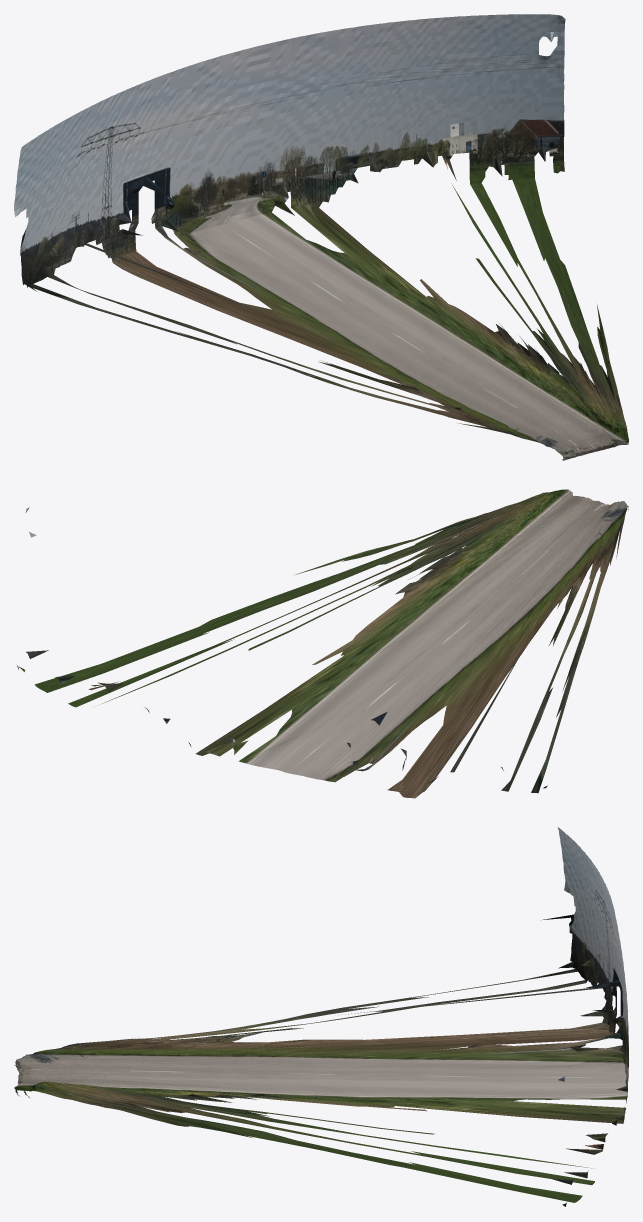
The picture shows the model from 3 angles, top to bottom: view 1: azimuth 30°, elevation 25°; view 2: azimuth 150°, elevation 25°; view 3: azimuth 270°, elevation 25°; orthographic projection. The views are drawn at different scales.
Visible parts, largest first — view 1: defaultobject; view 2: defaultobject; view 3: defaultobject.
Boxes of the visible parts, box(x1,y1,x2,y2) form: defaultobject: box(14, 14, 628, 460); defaultobject: box(17, 489, 628, 798); defaultobject: box(14, 827, 628, 1206).
Bounding box in the file's own units: 41.09 × 12.84 × 44.4.
1 material, 1 textured.
